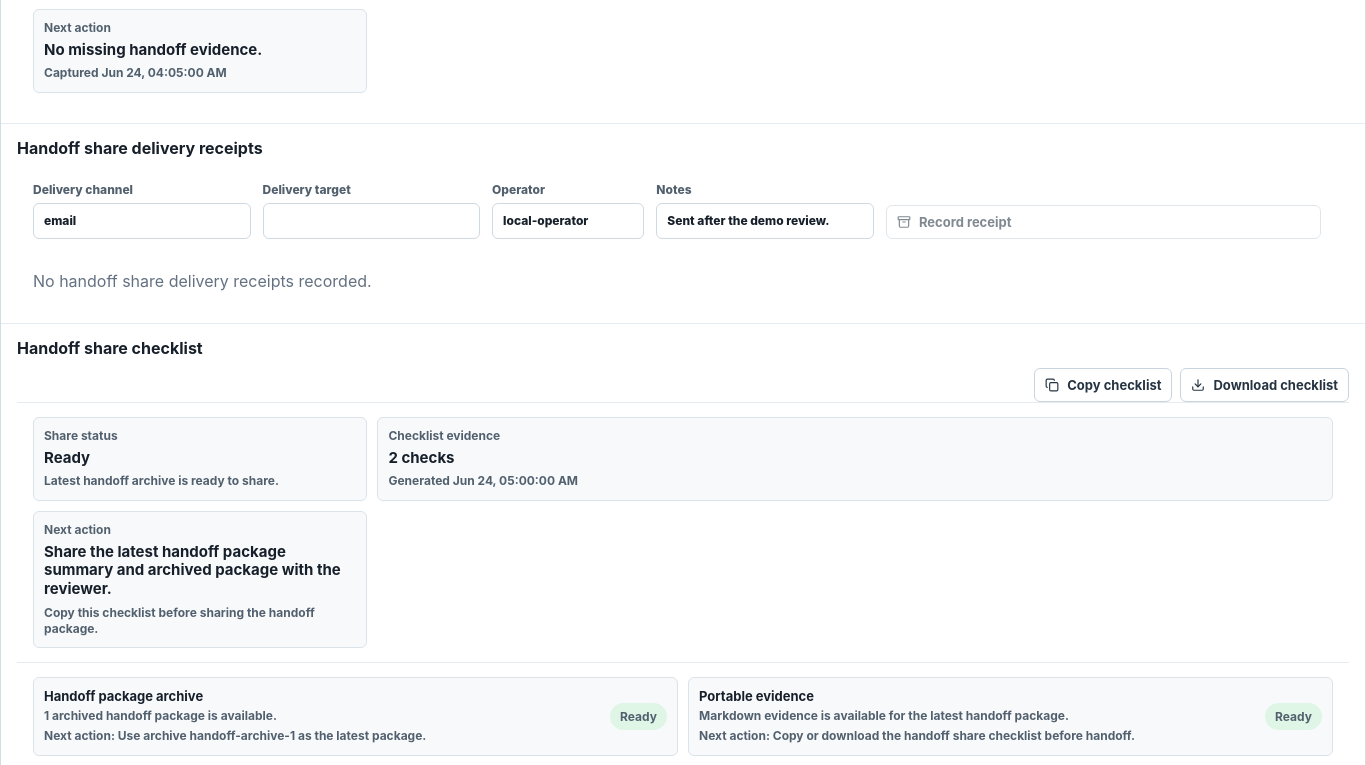
Scenario: downloads demo handoff share checklist markdown
(page scrolled)
What coordinates should you click on to do the following:
click the button with aria-label "Download handoff share checklist"
I would click on:
 (1265, 385)
Its box is [1180,368,1349,402].
(page scrolled)
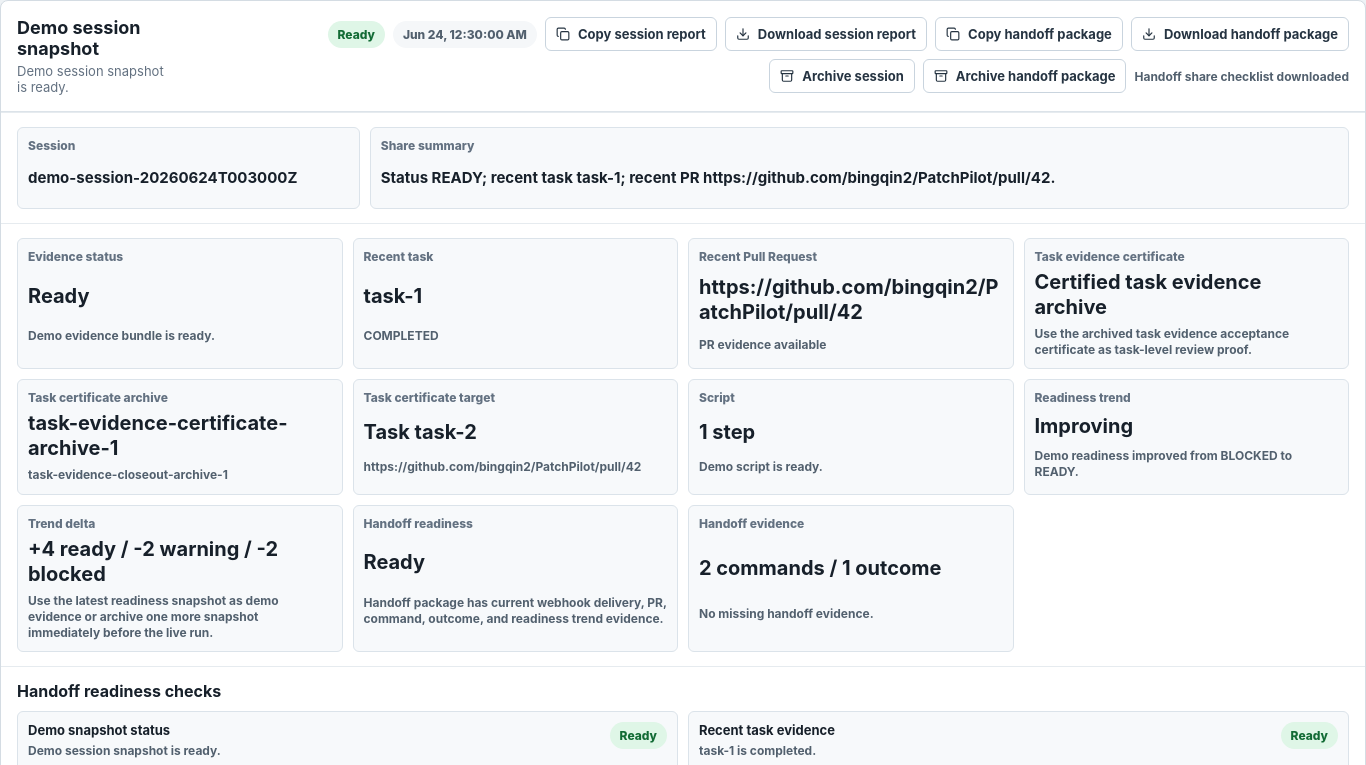
Expected: the text "Handoff share checklist downloaded" is shown, [1134,68,1349,84]
